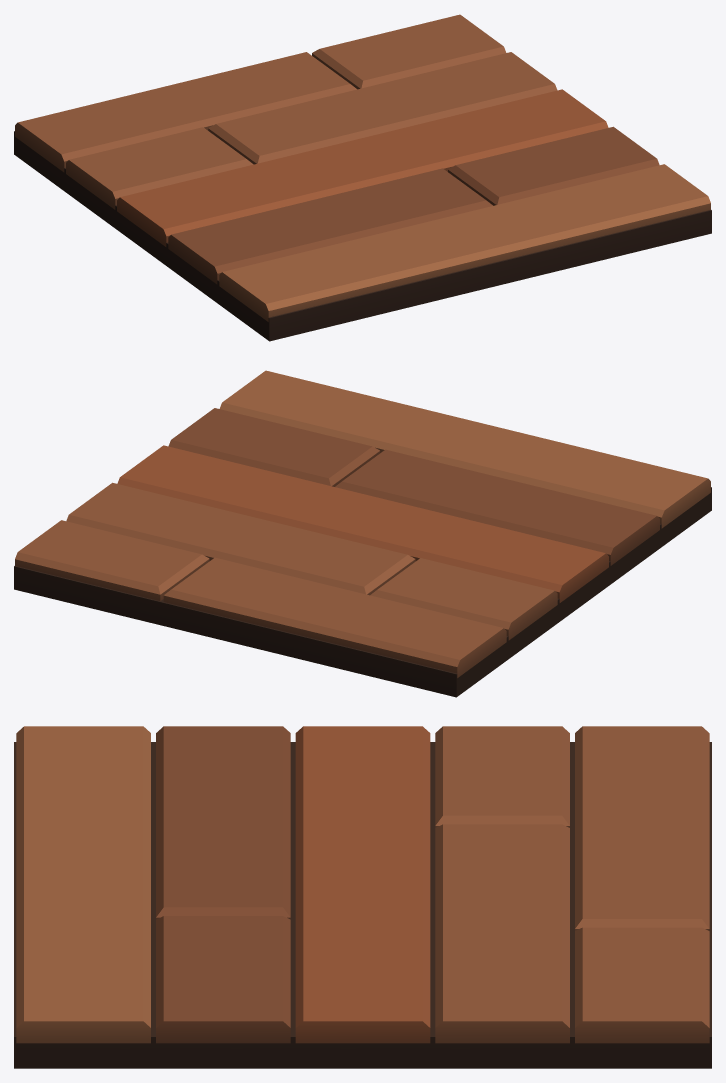
The model's file is floor_planks_small_B.glb.
3 views of the same model, one above another, from view 1: azimuth 30°, elevation 25°; view 2: azimuth 150°, elevation 25°; view 3: azimuth 270°, elevation 25° (orthographic). The views are drawn at different scales.
Parts seen in each view (by area): view 1: Item; view 2: Item; view 3: Item.
Boxes of the visible parts, x1,y1,x2,y2 form: Item: (14, 14, 711, 341); Item: (14, 370, 711, 697); Item: (14, 726, 711, 1068).
Bounding box in the file's own units: 2 × 0.15 × 2.
Materials: 1 (1 with a texture image).
